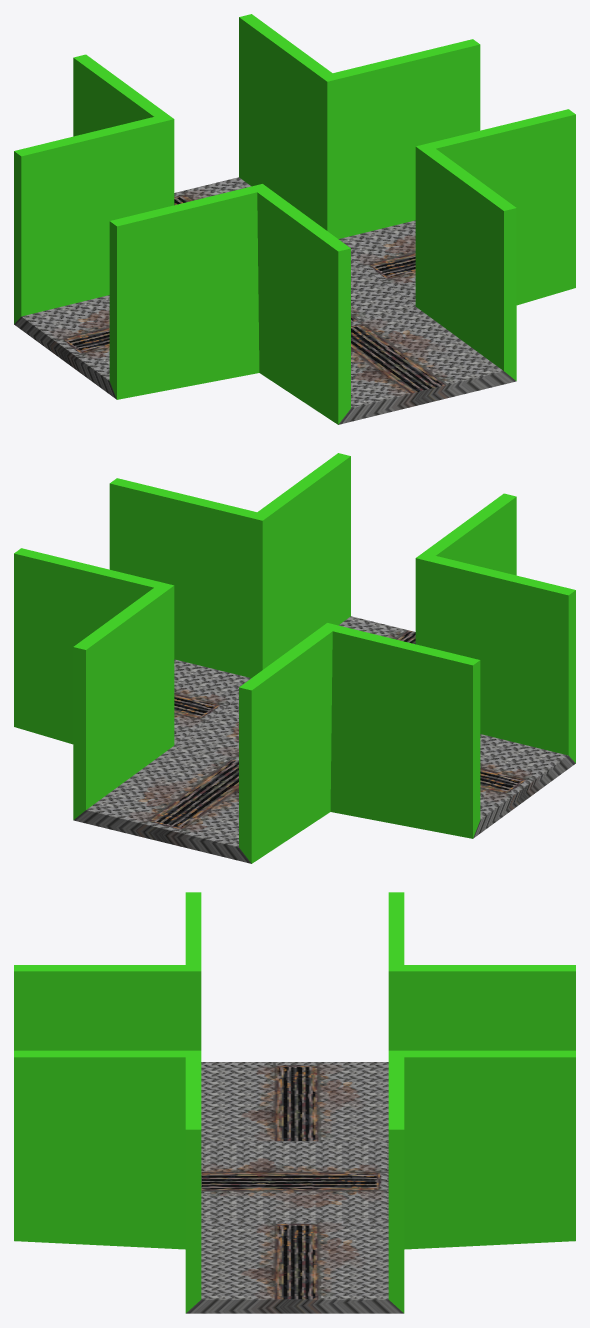
The model's file is Corridor.002.fbx.
3 views of the same model, one above another, from view 1: azimuth 30°, elevation 25°; view 2: azimuth 150°, elevation 25°; view 3: azimuth 270°, elevation 25° (orthographic). The views are drawn at different scales.
Parts seen in each view (by area): view 1: Corridor.002; view 2: Corridor.002; view 3: Corridor.002.
Boxes of the visible parts, x1,y1,x2,y2 form: Corridor.002: (14, 14, 575, 424); Corridor.002: (14, 453, 575, 863); Corridor.002: (14, 892, 575, 1313).
Bounding box in the file's own units: 1800 × 690 × 1800.
